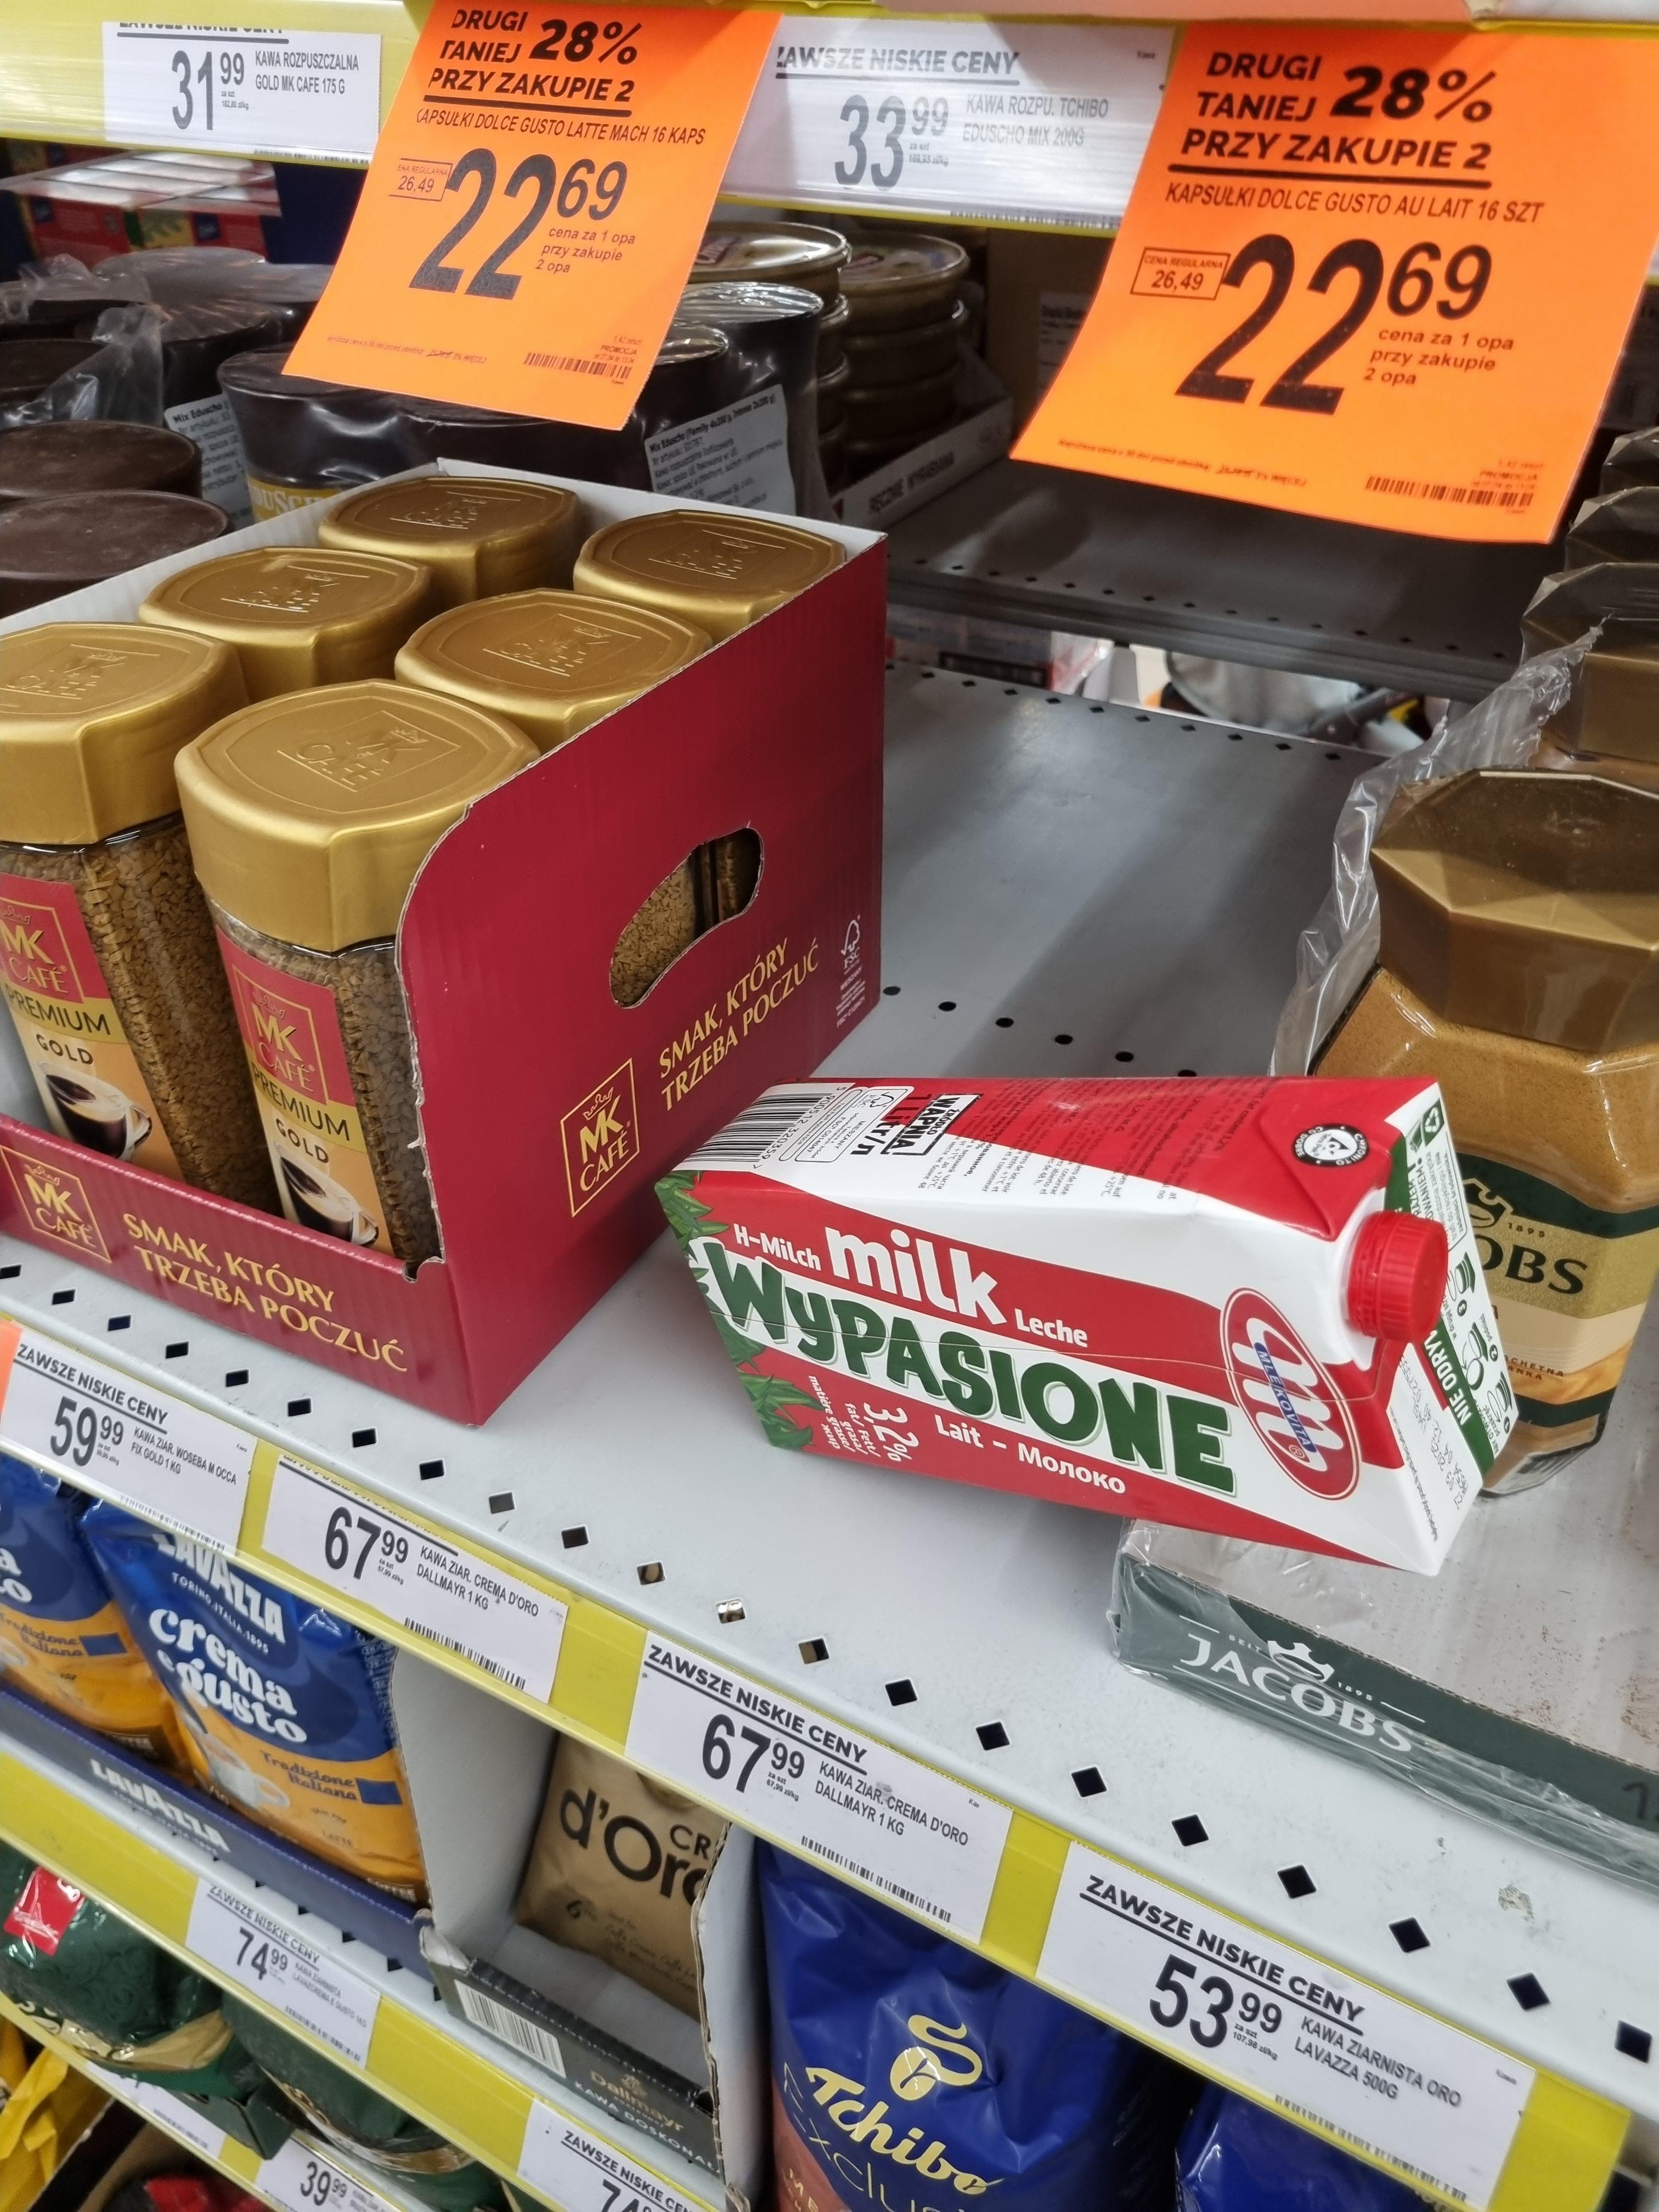Milk: (652, 1052, 1534, 1575)
